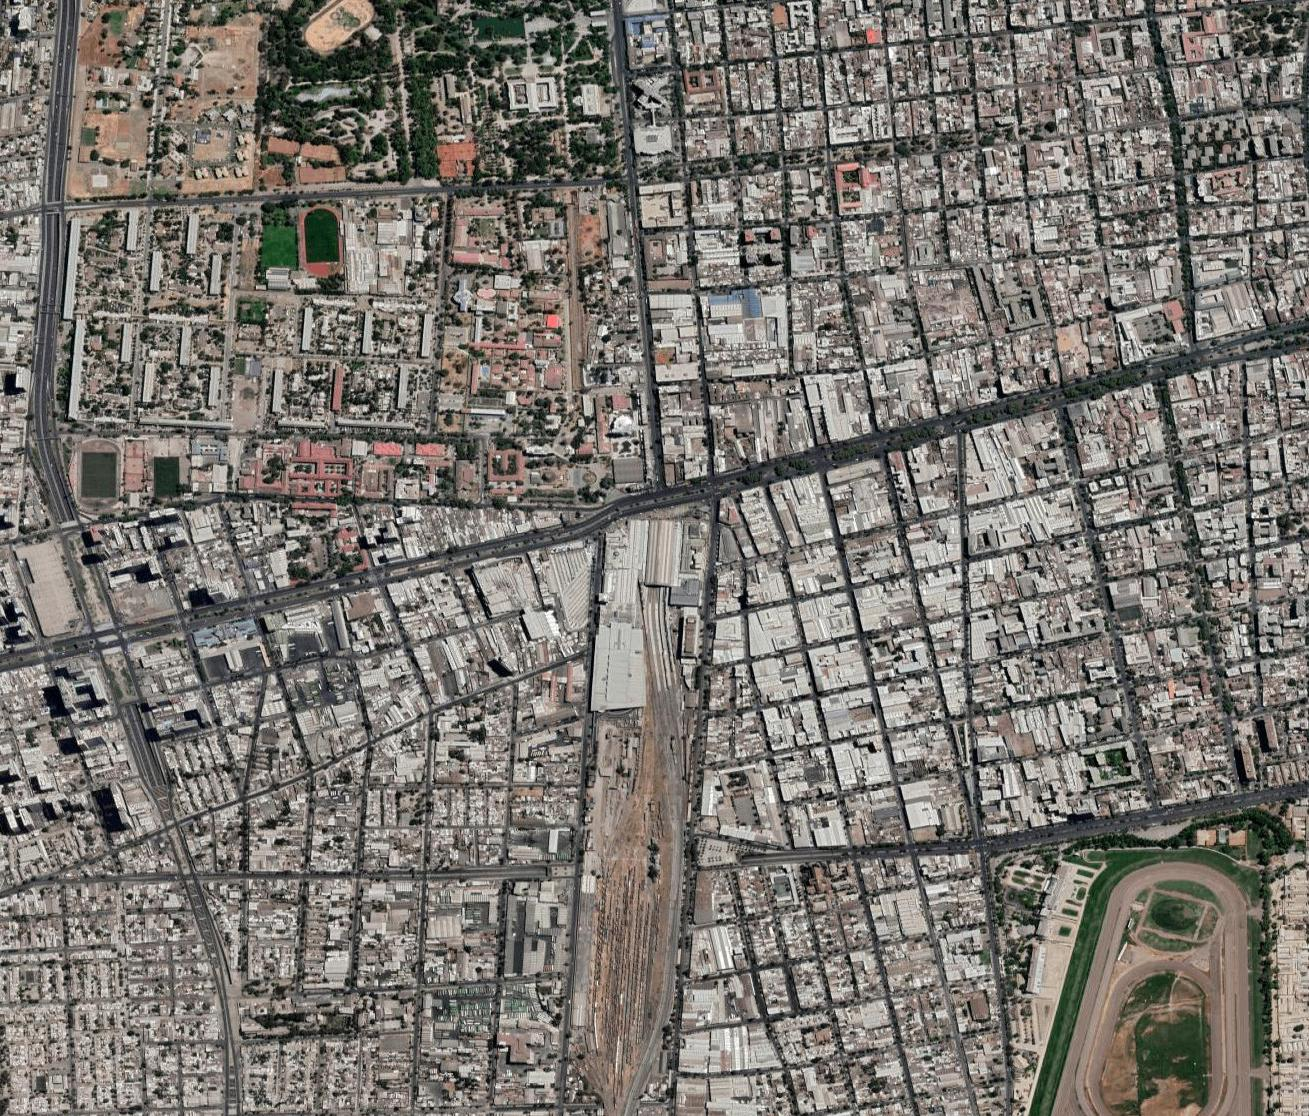train_station: (590, 489, 717, 744)
